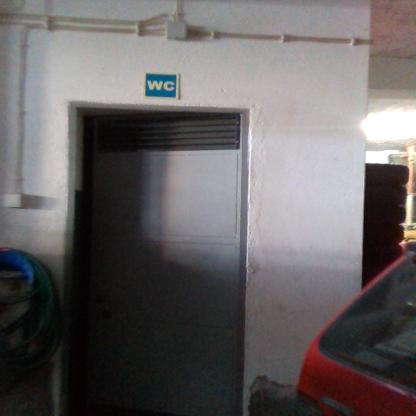semi: (49, 84, 272, 416)
